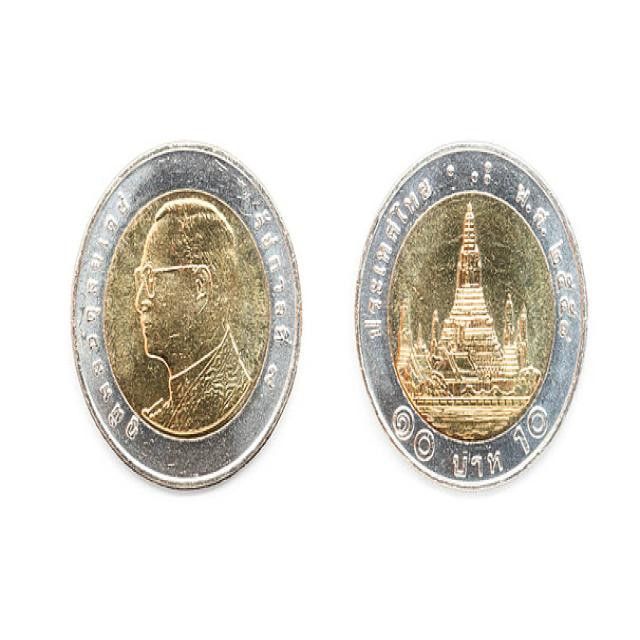10 Bath: (353, 137, 592, 492), (73, 143, 304, 494)
